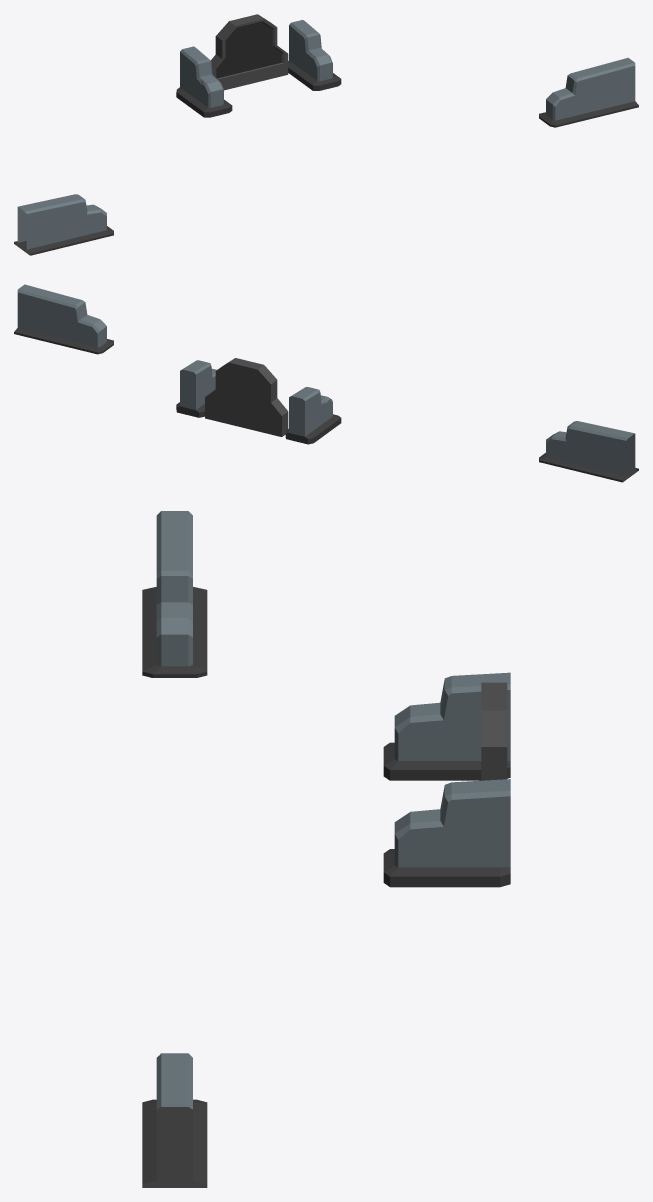
The model's file is SM_Bld_Bridge_Wall_Details_01.fbx.
The picture shows the model from 3 angles, top to bottom: view 1: azimuth 30°, elevation 25°; view 2: azimuth 150°, elevation 25°; view 3: azimuth 270°, elevation 25°; orthographic projection. The views are drawn at different scales.
Parts seen in each view (by area): view 1: SM_Bld_Bridge_Wall_Details_01; view 2: SM_Bld_Bridge_Wall_Details_01; view 3: SM_Bld_Bridge_Wall_Details_01.
Boxes of the visible parts, x1=… form: SM_Bld_Bridge_Wall_Details_01: x1=14, y1=14, x2=638, y2=255; SM_Bld_Bridge_Wall_Details_01: x1=14, y1=284, x2=638, y2=482; SM_Bld_Bridge_Wall_Details_01: x1=142, y1=511, x2=510, y2=1187.
Size of the model in its own units: 1793 by 272 by 469.
Materials: 1 (1 with a texture image).
